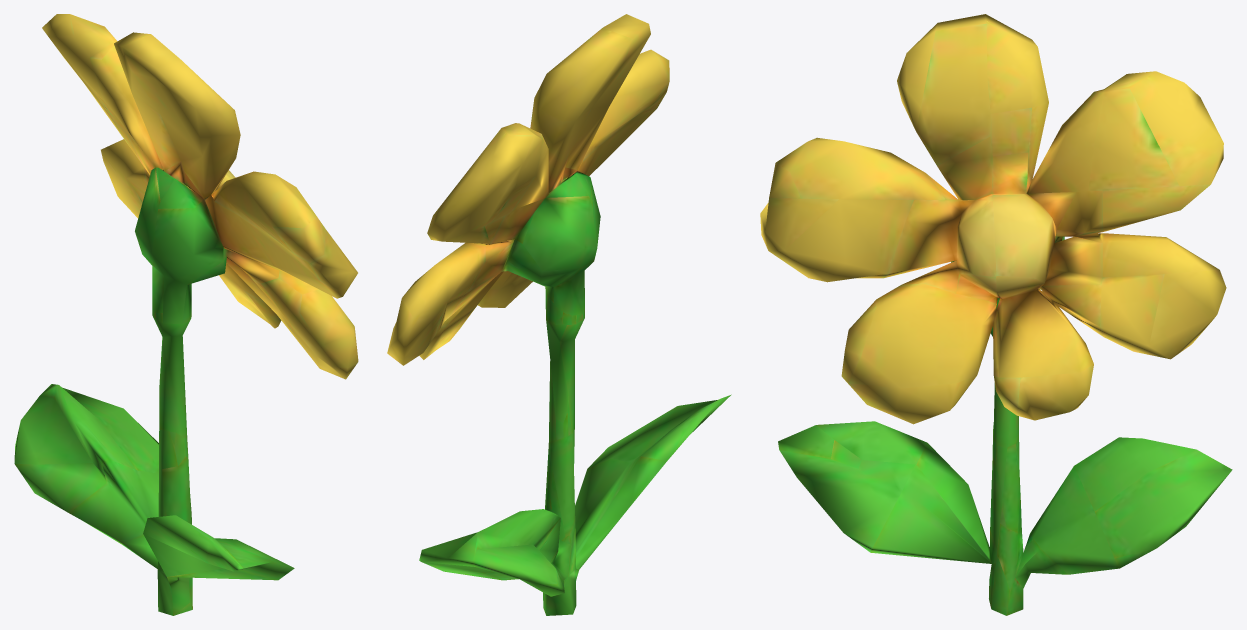
Rendered from yellow-flower.glb.
3 renders of one model, left to right at view 1: azimuth 30°, elevation 25°; view 2: azimuth 150°, elevation 25°; view 3: azimuth 270°, elevation 25°, orthographic. The views are drawn at different scales.
Parts seen in each view (by area): view 1: tripo_node_db907a9c-f590-4afa-9f82-09863ae20103; view 2: tripo_node_db907a9c-f590-4afa-9f82-09863ae20103; view 3: tripo_node_db907a9c-f590-4afa-9f82-09863ae20103.
Part boxes in pixels (x1=…): tripo_node_db907a9c-f590-4afa-9f82-09863ae20103: x1=14, y1=14, x2=358, y2=615; tripo_node_db907a9c-f590-4afa-9f82-09863ae20103: x1=387, y1=14, x2=731, y2=615; tripo_node_db907a9c-f590-4afa-9f82-09863ae20103: x1=760, y1=14, x2=1232, y2=615.
Size of the model in its own units: 0.3403 by 0.9738 by 0.7328.
Materials: 1 (1 with a texture image).
